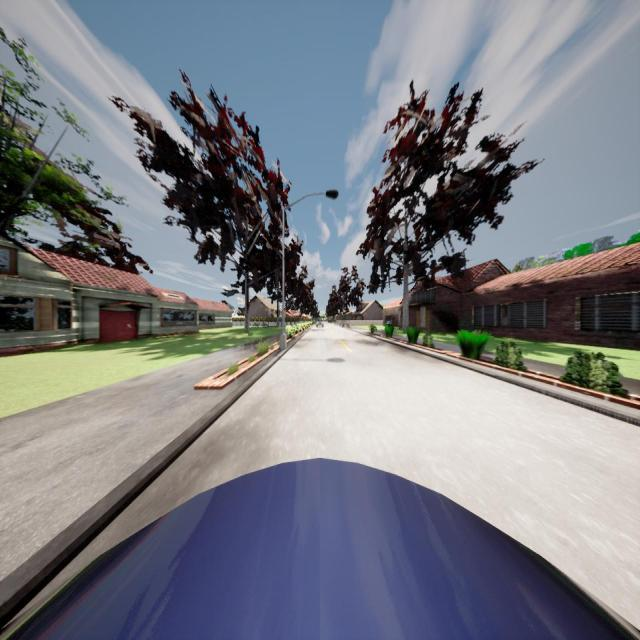Vehicle: (0, 456, 640, 640), (316, 318, 324, 328)
